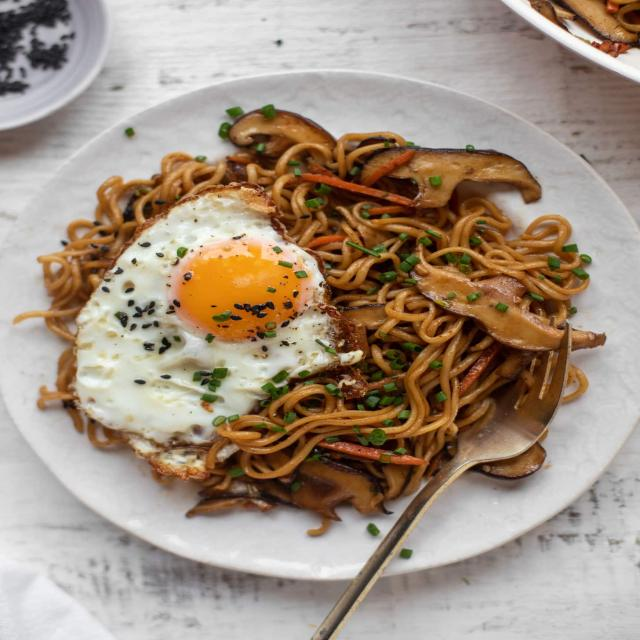Egg: (73, 184, 349, 449)
